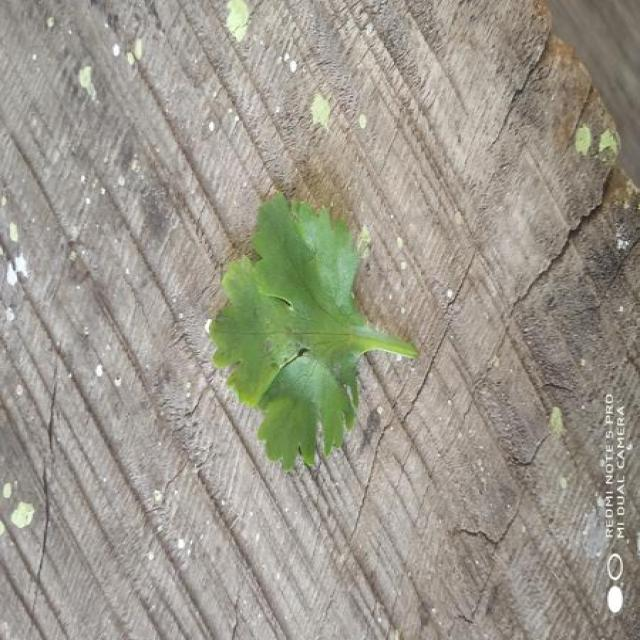coriender blight: (208, 195, 418, 469)
